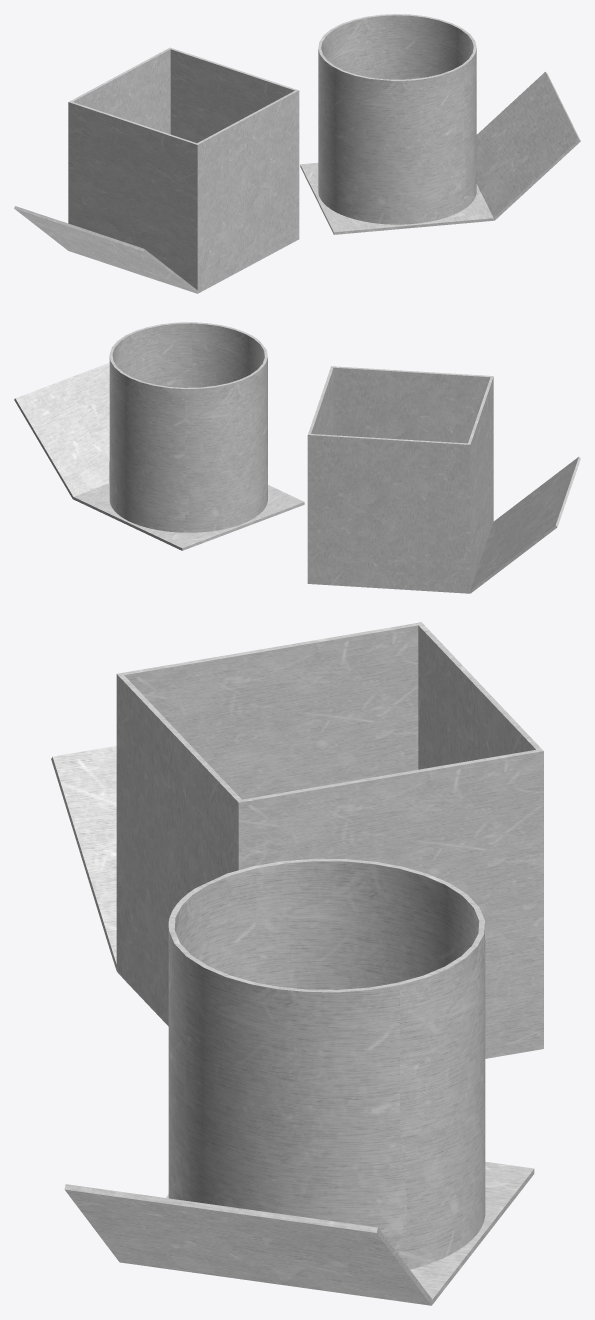
The picture shows the model from 3 angles, top to bottom: view 1: azimuth 30°, elevation 25°; view 2: azimuth 150°, elevation 25°; view 3: azimuth 270°, elevation 25°; orthographic projection. The views are drawn at different scales.
Visible parts, largest first — view 1: Object001, model; view 2: Object001, model; view 3: model, Object001.
Part boxes in pixels (x1=…): Object001: x1=14, y1=47, x2=299, y2=293; model: x1=300, y1=14, x2=580, y2=234; Object001: x1=307, y1=366, x2=580, y2=593; model: x1=14, y1=322, x2=304, y2=550; model: x1=64, y1=858, x2=534, y2=1305; Object001: x1=51, y1=622, x2=543, y2=1058.
Bounding box in the file's own units: 16.6 × 4.39 × 6.58.
Materials: 1 (1 with a texture image).
